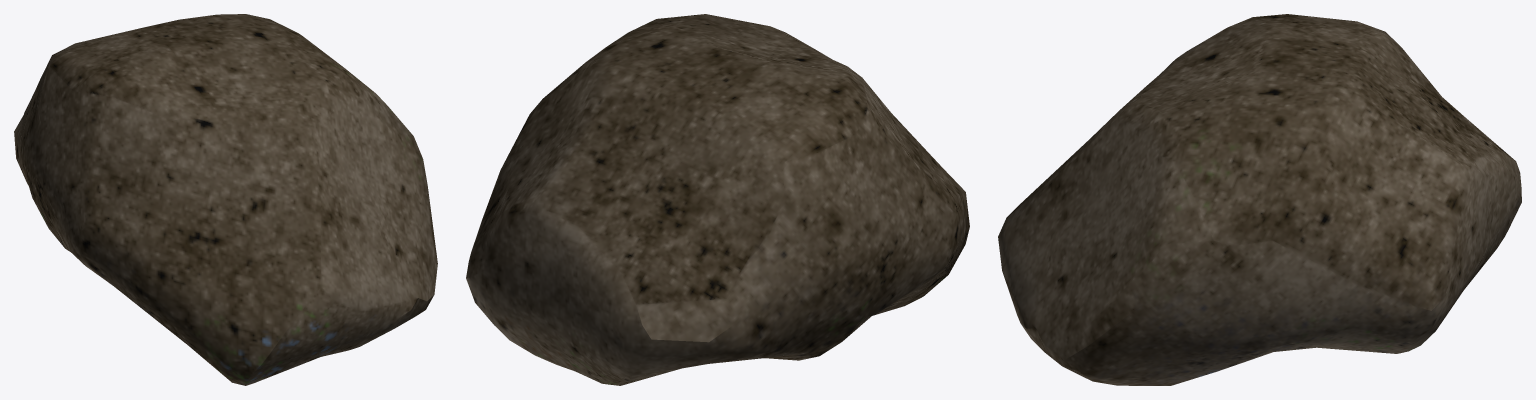
The model's file is riverrock1.fbx.
3 views of the same model, side by side, from view 1: azimuth 30°, elevation 25°; view 2: azimuth 150°, elevation 25°; view 3: azimuth 270°, elevation 25° (orthographic). The views are drawn at different scales.
Visible parts, largest first — view 1: Rocks.012; view 2: Rocks.012; view 3: Rocks.012.
Part boxes in pixels (x1,y1,x2,y2): Rocks.012: (14,14,437,385); Rocks.012: (466,14,969,385); Rocks.012: (998,14,1521,385).
Bounding box in the file's own units: 30.84 × 24.09 × 39.95.
1 material, 1 textured.
